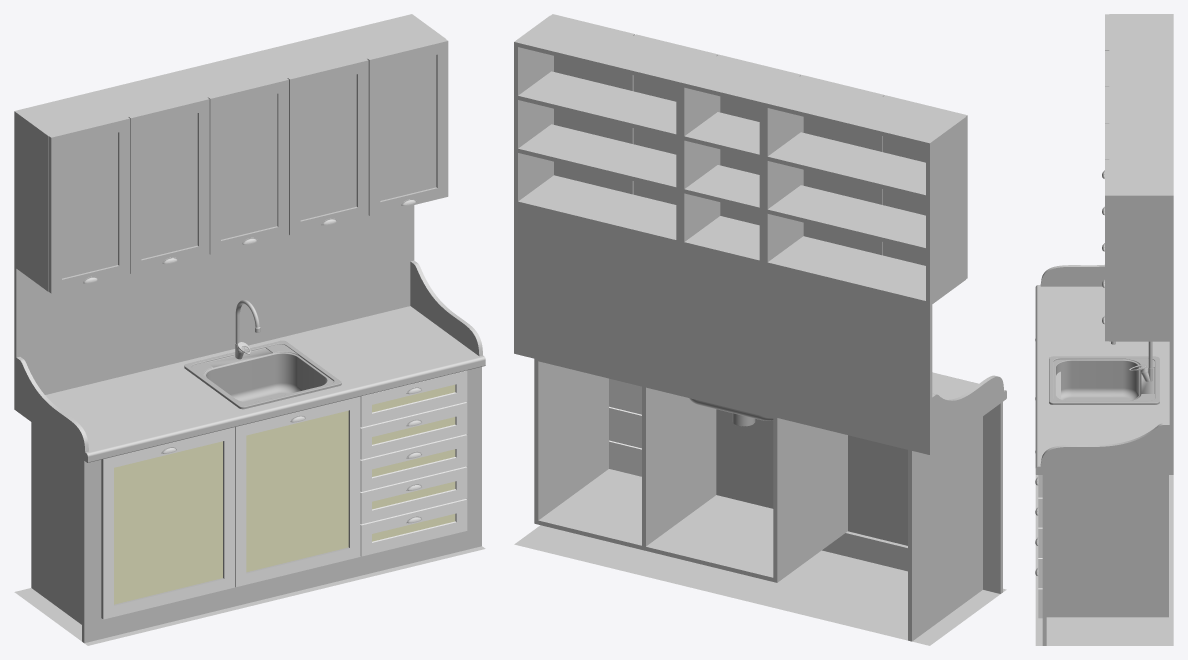
Rendered from commode.fbx.
The picture shows the model from 3 angles, left to right: view 1: azimuth 30°, elevation 25°; view 2: azimuth 150°, elevation 25°; view 3: azimuth 270°, elevation 25°; orthographic projection. The views are drawn at different scales.
Parts seen in each view (by area): view 1: Group_001, Group18#1_001, Group18#2_001, Group33#1_001, Group32#1_001, Group35#1_002, Group35#1_004, Group35#1_001, Group35#1_005, Group35#1_003, Group8#1_001, Group13#1_001 (+16 smaller); view 2: Group32#1_002, Group33#1_001, Group32#1_001, Group_002, Group8#1_001, Group10#1_001, Group9#2_002, Group9#2_001, Group16#1_001, Group22#1_002, Group25#1_002, Group23#1_002 (+29 smaller); view 3: Group9#2_001, Group_001, Group22#1_006, Component#5_001, Group_002, Group25#1_002, Group23#1_002, Group34#1_001, Group24#1_002, Group34#1_002, Group35#1_004, Group12#1_001 (+1 smaller).
Boxes of the visible parts, x1,y1,x2,y2 form: Group_001: [14, 306, 485, 462]; Group18#1_001: [101, 427, 234, 619]; Group18#2_001: [235, 396, 360, 587]; Group33#1_001: [14, 216, 414, 357]; Group32#1_001: [14, 261, 410, 401]; Group35#1_002: [49, 117, 129, 293]; Group35#1_004: [367, 39, 448, 215]; Group35#1_001: [208, 78, 288, 254]; Group35#1_005: [287, 58, 368, 235]; Group35#1_003: [128, 97, 209, 273]; Group8#1_001: [31, 422, 104, 638]; Group13#1_001: [105, 531, 464, 637]; Group32#1_002: [514, 205, 932, 352]; Group33#1_001: [514, 251, 932, 399]; Group32#1_001: [514, 298, 932, 445]; Group_002: [514, 525, 1006, 645]; Group8#1_001: [908, 416, 982, 641]; Group10#1_001: [534, 469, 847, 582]; Group9#2_002: [773, 417, 847, 578]; Group9#2_001: [534, 358, 608, 520]; Group16#1_001: [642, 386, 716, 546]; Group22#1_002: [926, 116, 965, 305]; Group25#1_002: [518, 16, 711, 85]; Group23#1_002: [767, 77, 961, 146]; Group9#2_001: [1046, 475, 1168, 613]; Group_001: [1035, 285, 1173, 474]; Group22#1_006: [1109, 194, 1173, 341]; Component#5_001: [1049, 356, 1159, 404]; Group_002: [1035, 475, 1173, 645]; Group25#1_002: [1109, 124, 1173, 193]; Group23#1_002: [1109, 15, 1173, 84]; Group34#1_001: [1040, 423, 1169, 466]; Group24#1_002: [1109, 88, 1173, 121]; Group34#1_002: [1040, 264, 1104, 286]; Group35#1_004: [1105, 159, 1109, 341]; Group12#1_001: [1042, 475, 1046, 645].
Bounding box in the file's own units: 73.62 × 85.04 × 23.69.
